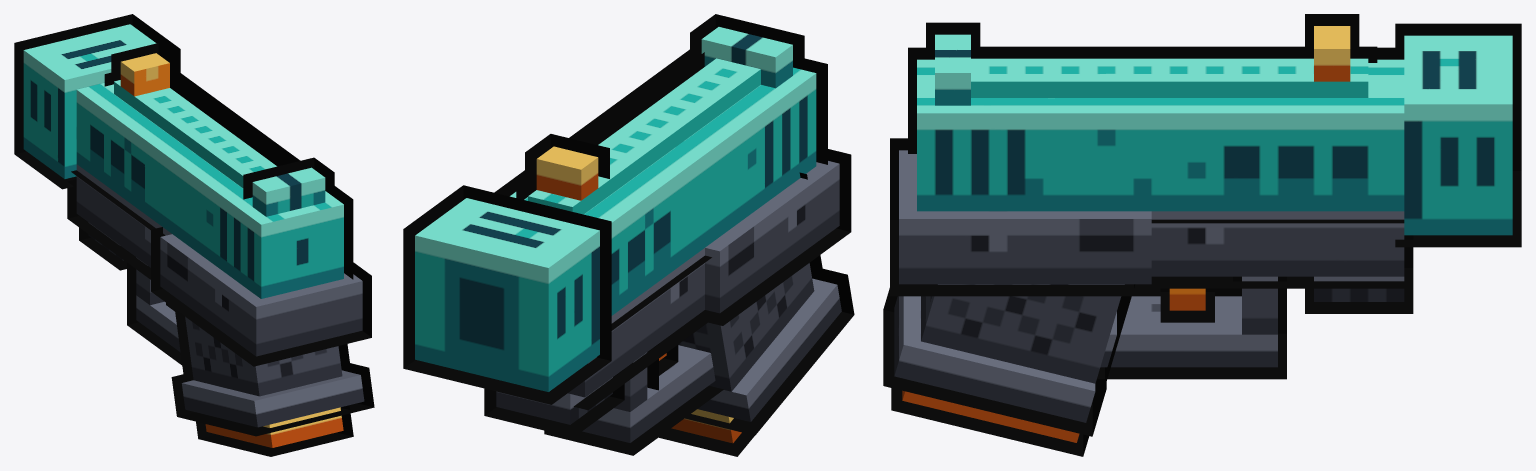
File: pistol.obj
3 renders of one model, left to right at view 1: azimuth 30°, elevation 25°; view 2: azimuth 150°, elevation 25°; view 3: azimuth 270°, elevation 25°, orthographic. The views are drawn at different scales.
Parts seen in each view (by area): view 1: Body, Slide, Magazine; view 2: Body, Slide, Magazine; view 3: Body, Slide, Magazine, Trigger.
Part boxes in pixels (bbox=[...]): Body: bbox=[14, 14, 374, 436]; Slide: bbox=[71, 43, 353, 298]; Magazine: bbox=[194, 405, 353, 456]; Body: bbox=[403, 149, 854, 455]; Slide: bbox=[494, 14, 827, 330]; Magazine: bbox=[659, 409, 754, 456]; Body: bbox=[883, 23, 1521, 436]; Slide: bbox=[908, 14, 1404, 223]; Magazine: bbox=[891, 379, 1097, 456]; Trigger: bbox=[1160, 288, 1214, 322].
Bounding box in the file's own units: 0.625 × 1.53 × 2.21.
Materials: 1 (1 with a texture image).
